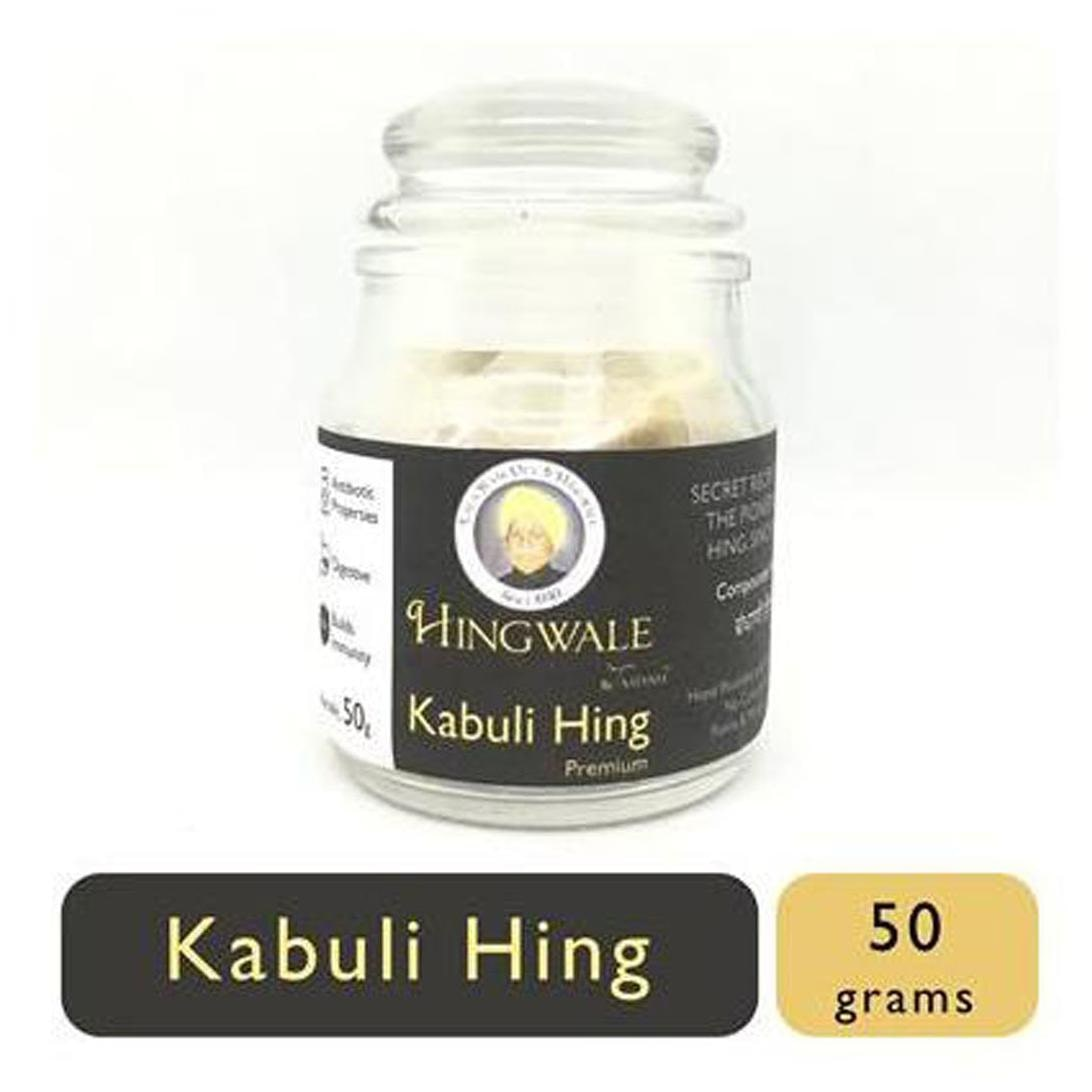JAR: (300, 70, 788, 843)
